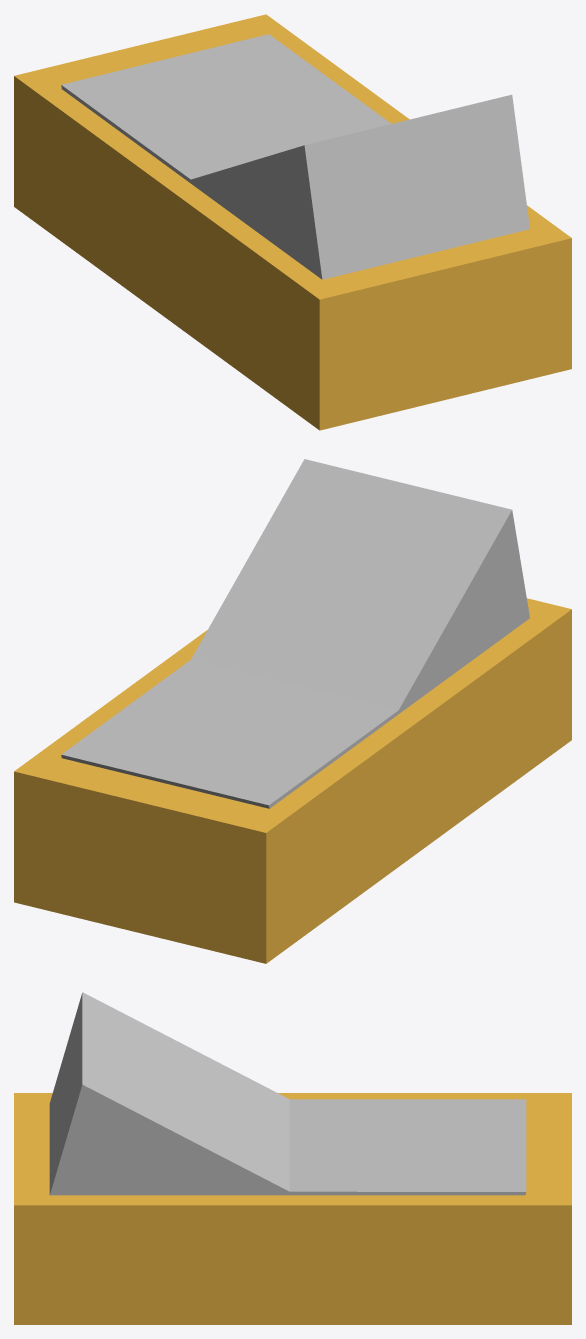
Rendered from lightButton.glb.
3 views of the same model, one above another, from view 1: azimuth 30°, elevation 25°; view 2: azimuth 150°, elevation 25°; view 3: azimuth 270°, elevation 25° (orthographic). The views are drawn at different scales.
Parts seen in each view (by area): view 1: scatola, pulsante; view 2: scatola, pulsante; view 3: scatola, pulsante.
Part boxes in pixels (x1,y1,x2,y2): scatola: (14, 14, 571, 430); pulsante: (61, 34, 529, 279); scatola: (14, 598, 571, 963); pulsante: (61, 459, 529, 808); scatola: (14, 1093, 571, 1324); pulsante: (49, 992, 526, 1195).
Size of the model in its own units: 2.57 by 2.46 by 5.4.
